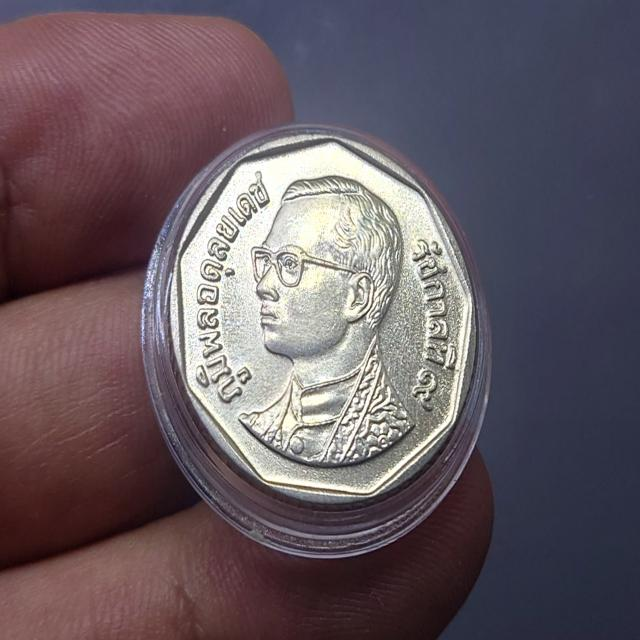5 Bath: (164, 126, 481, 516)
